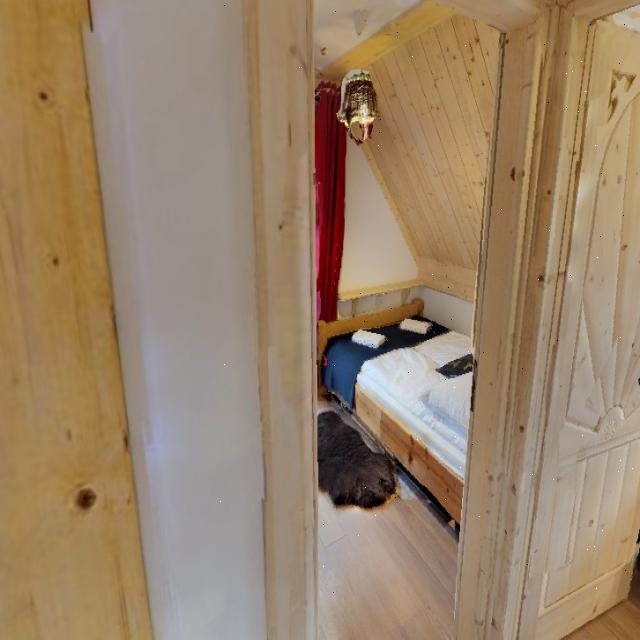bed: (308, 281, 490, 527)
door: (533, 16, 640, 599)
door-frame: (218, 0, 548, 640)
